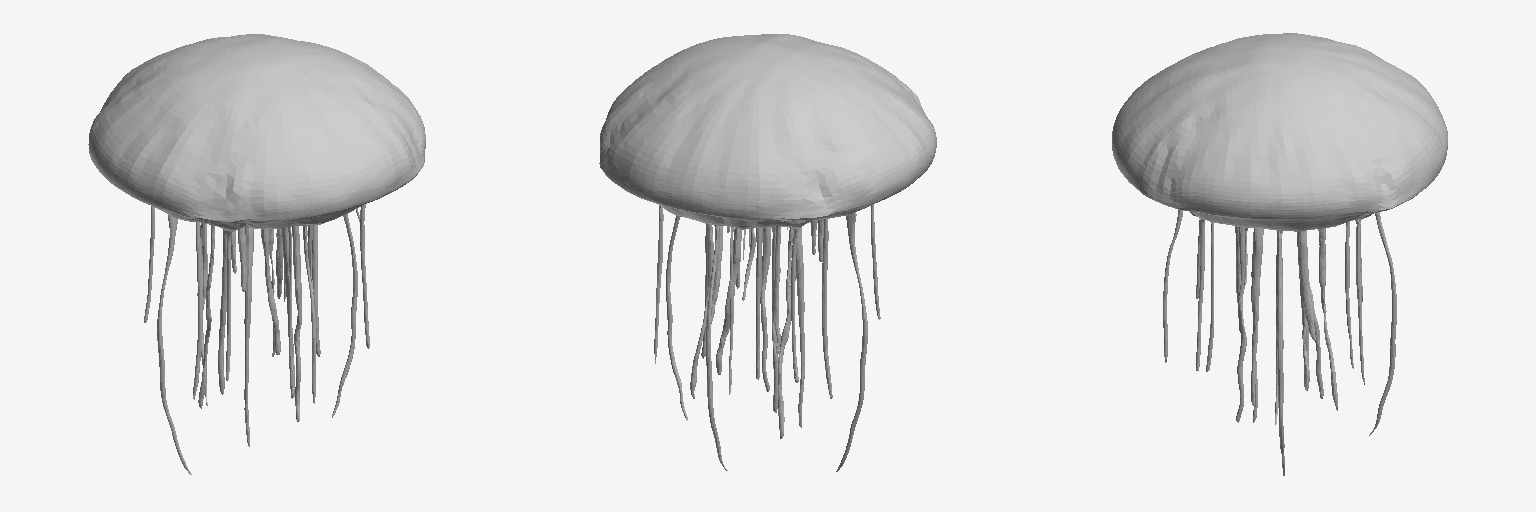
File: jellyfish_object.obj
3 renders of one model, left to right at view 1: azimuth 30°, elevation 25°; view 2: azimuth 150°, elevation 25°; view 3: azimuth 270°, elevation 25°, orthographic.
Visible parts, largest first — view 1: Jellyfish_Quad; view 2: Jellyfish_Quad; view 3: Jellyfish_Quad.
Boxes of the visible parts, x1,y1,x2,y2 form: Jellyfish_Quad: [88, 34, 425, 474]; Jellyfish_Quad: [599, 34, 936, 471]; Jellyfish_Quad: [1112, 33, 1447, 475].
Size of the model in its own units: 0.5612 by 0.7421 by 0.5618.